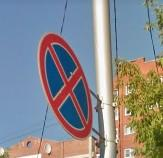No Parking: (39, 33, 95, 141)
